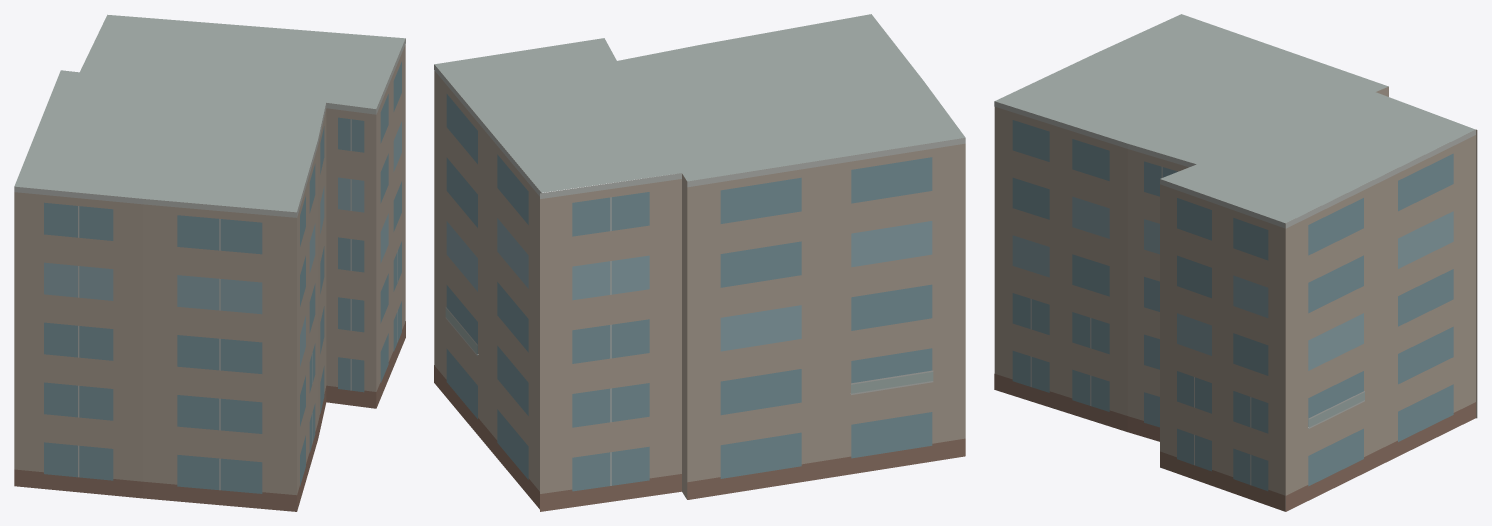
File: survey-upis-32757011.glb
The picture shows the model from 3 angles, left to right: view 1: azimuth 30°, elevation 25°; view 2: azimuth 150°, elevation 25°; view 3: azimuth 270°, elevation 25°; orthographic projection. The views are drawn at different scales.
Visible parts, largest first — view 1: survey-upis-32757011.tmp; view 2: survey-upis-32757011.tmp; view 3: survey-upis-32757011.tmp.
Part boxes in pixels (x1,y1,x2,y2): survey-upis-32757011.tmp: [14, 14, 405, 511]; survey-upis-32757011.tmp: [434, 14, 965, 511]; survey-upis-32757011.tmp: [994, 14, 1477, 511].
Size of the model in its own units: 20.68 by 13.28 by 20.16.
